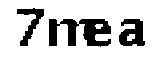7: (13, 6, 45, 50)
a: (115, 16, 148, 52)
e: (91, 15, 115, 51)
m: (46, 16, 90, 51)
